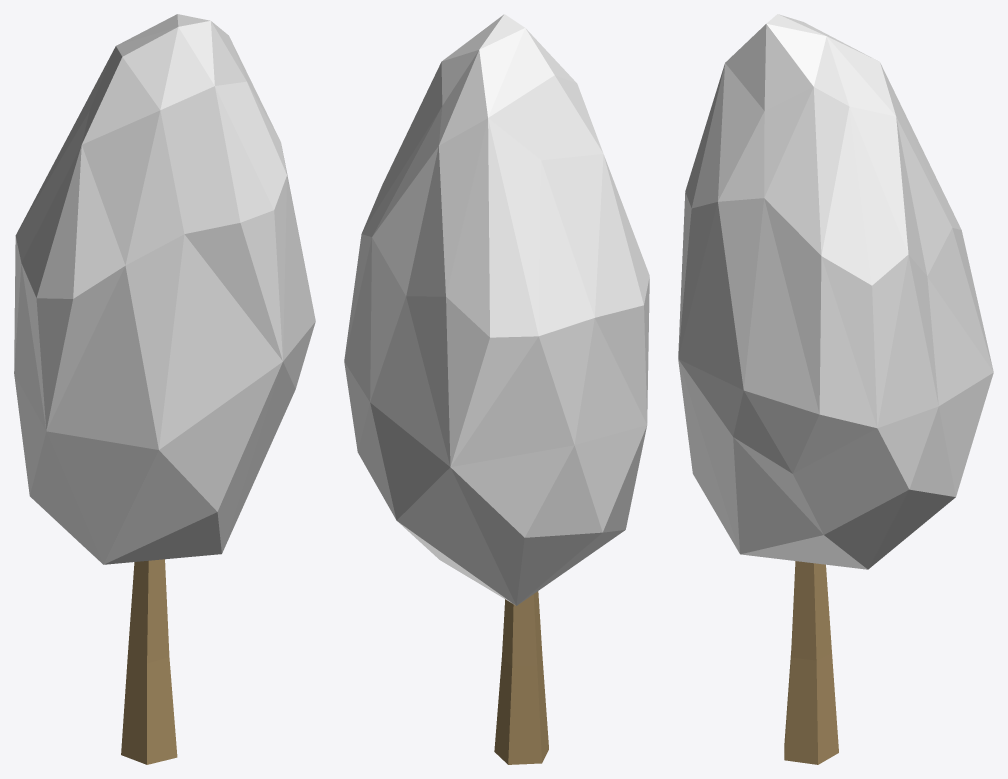
File: Random_Tree_m_Snow_BT_08.fbx
3 views of the same model, side by side, from view 1: azimuth 30°, elevation 25°; view 2: azimuth 150°, elevation 25°; view 3: azimuth 270°, elevation 25° (orthographic). The views are drawn at different scales.
Parts seen in each view (by area): view 1: Random_Tree_m_Snow_BT_08; view 2: Random_Tree_m_Snow_BT_08; view 3: Random_Tree_m_Snow_BT_08.
Boxes of the visible parts, x1,y1,x2,y2 form: Random_Tree_m_Snow_BT_08: [14, 14, 315, 764]; Random_Tree_m_Snow_BT_08: [344, 14, 649, 764]; Random_Tree_m_Snow_BT_08: [678, 14, 993, 764].
Size of the model in its own units: 388 by 983 by 376.
